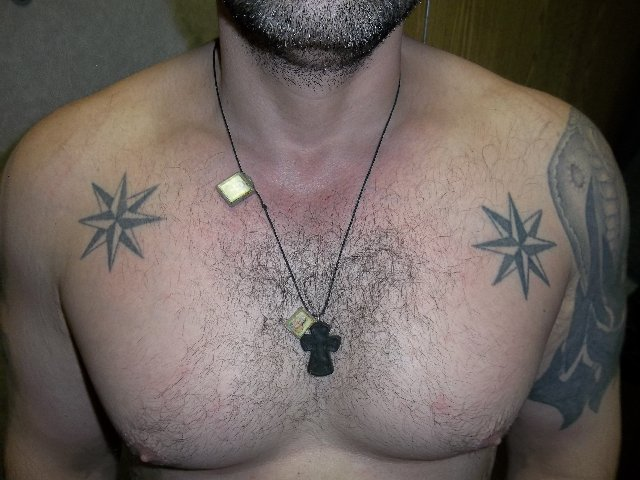tatu4_zvezda: (472, 194, 558, 301), (77, 173, 166, 273)
